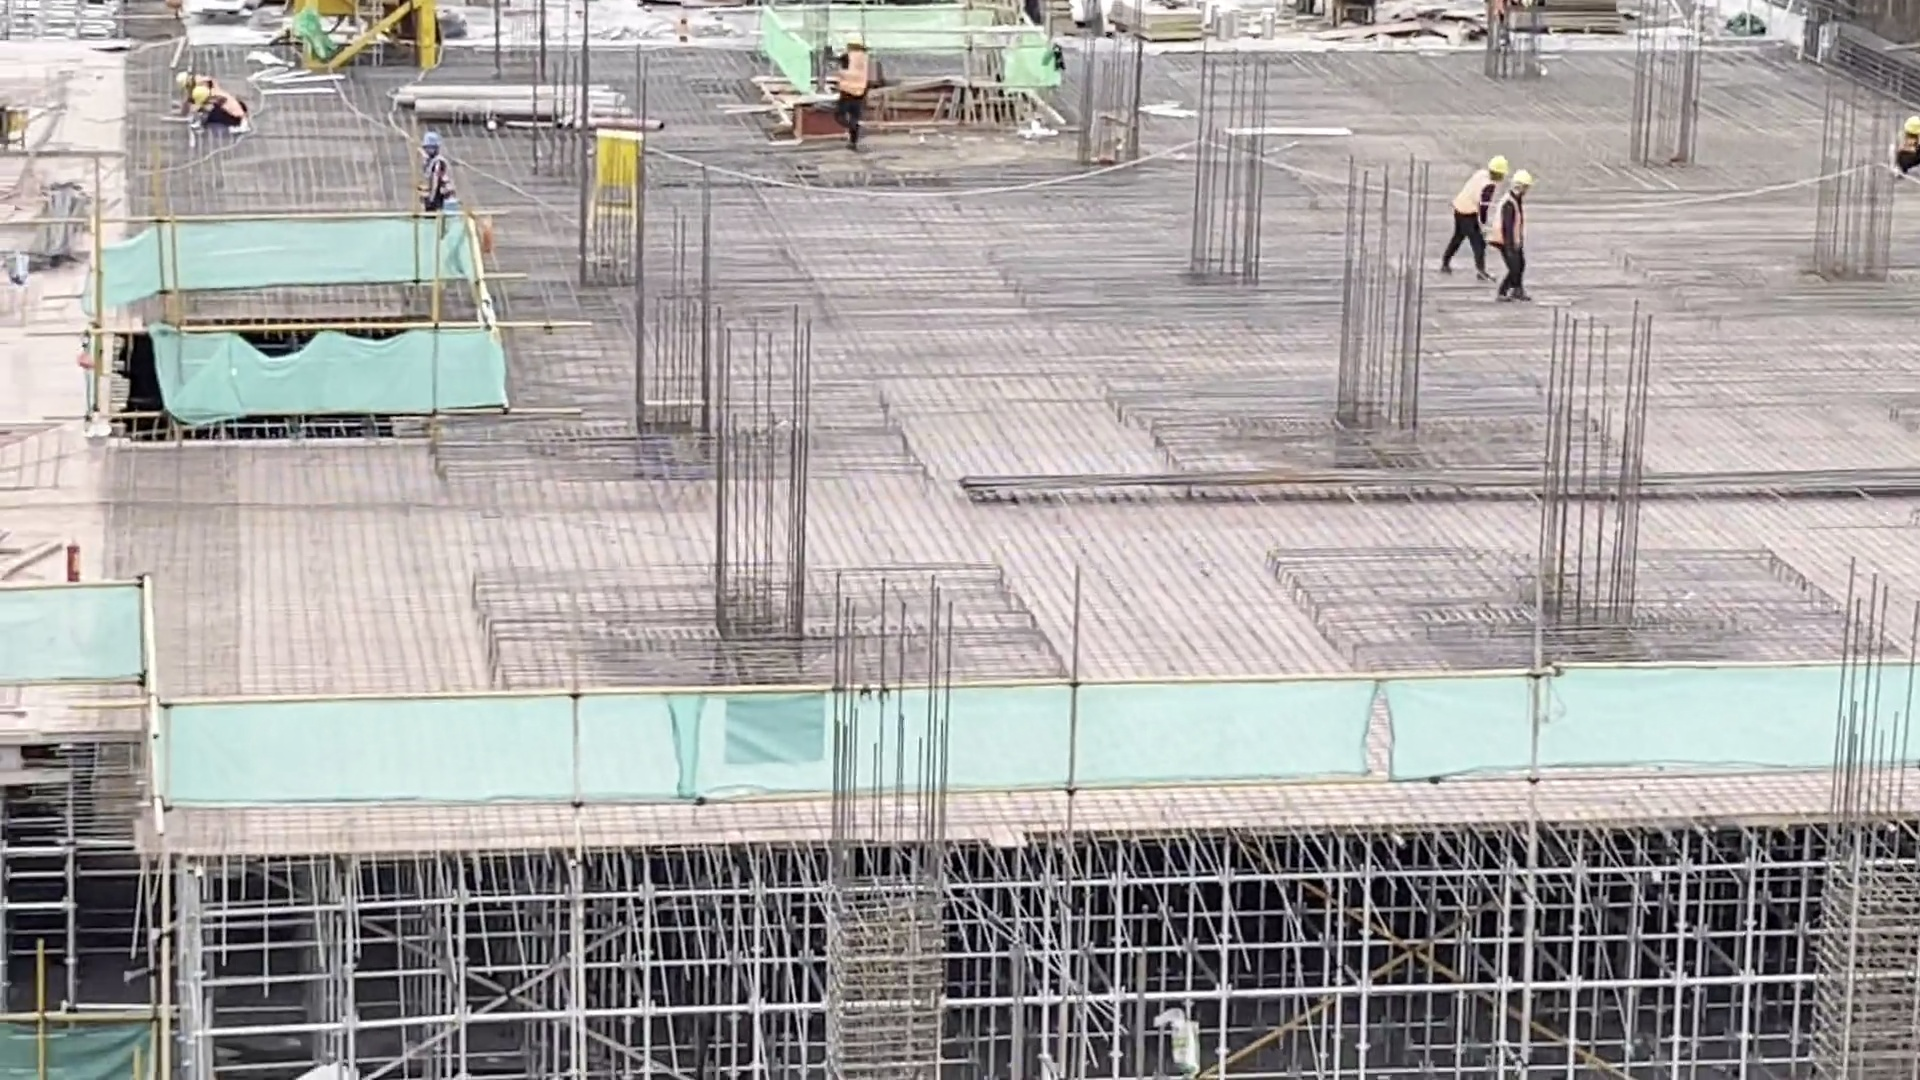helmet: (1902, 114, 1919, 136), (845, 28, 865, 46), (421, 133, 443, 147), (1486, 159, 1509, 173), (1511, 170, 1532, 183), (194, 89, 210, 106), (176, 71, 188, 87)
person: (1444, 156, 1507, 272), (1491, 172, 1536, 294), (828, 27, 873, 147), (415, 132, 460, 212), (1886, 104, 1920, 187), (193, 83, 248, 128), (173, 68, 219, 97)
vest: (1452, 173, 1496, 219), (1491, 194, 1527, 247), (419, 157, 455, 203), (840, 49, 869, 96), (216, 96, 242, 119)
